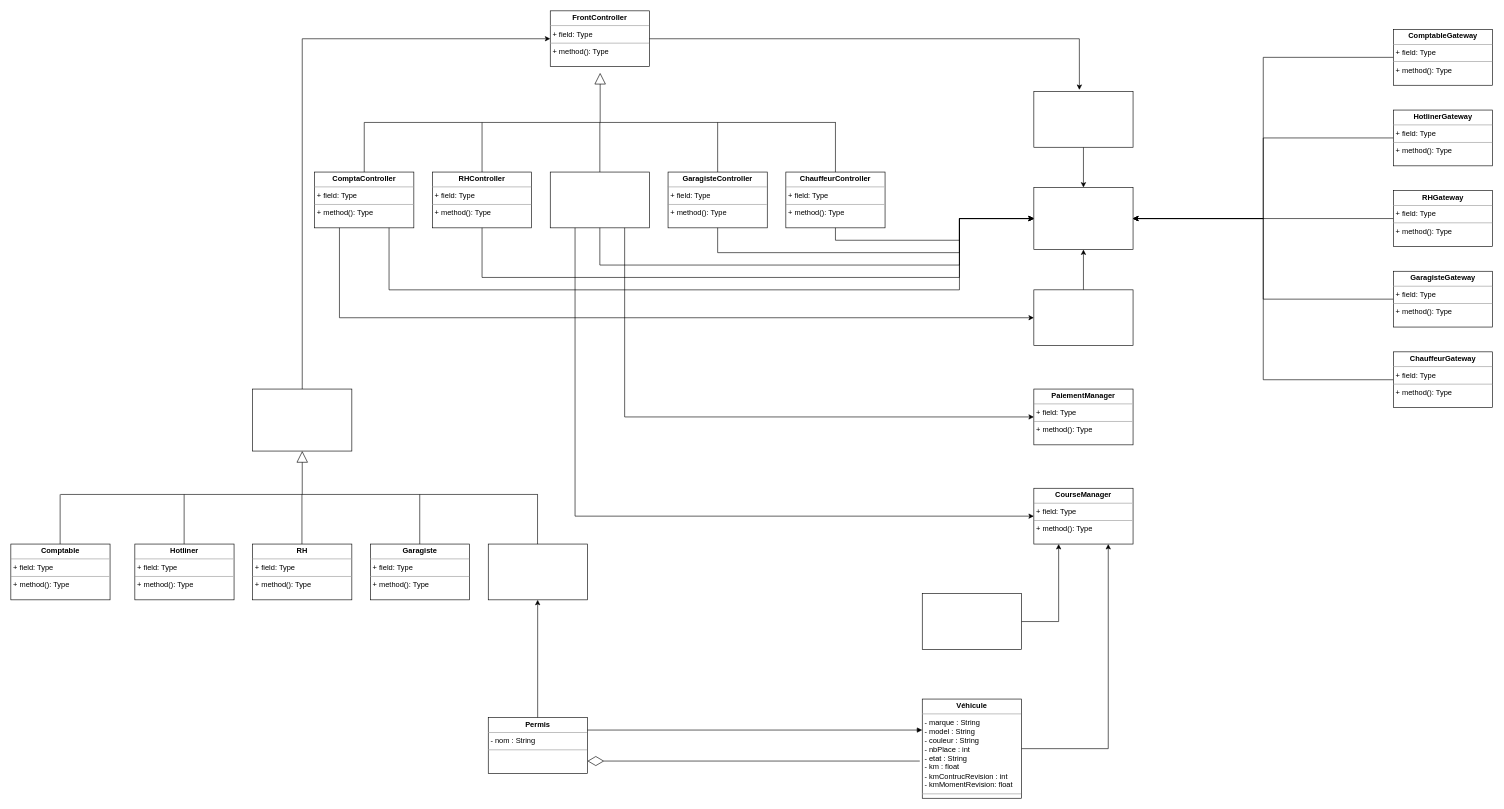
Some shapes in this 1504 by 809 pixel diagram are drawn without their labels. The shapes that lost their labels are listed below. From the top down, each one's centre as x and y in pixels, then its label:
(x=1083, y=119): ConnexionManager + field: Type + method(): Type
(x=599, y=199): HotlinerControlleur + field: Type + method(): Type
(x=1083, y=218): <<static>> GatewayManager + field: Type + method(): Type
(x=1083, y=317): FactureManager + field: Type + method(): Type
(x=302, y=419): <<abstract>> Employe - nom: String - prenom: String
(x=537, y=571): Chauffeur + field: Type + method(): Type
(x=971, y=621): Client - nom : String - prenom : String - telephone : String
